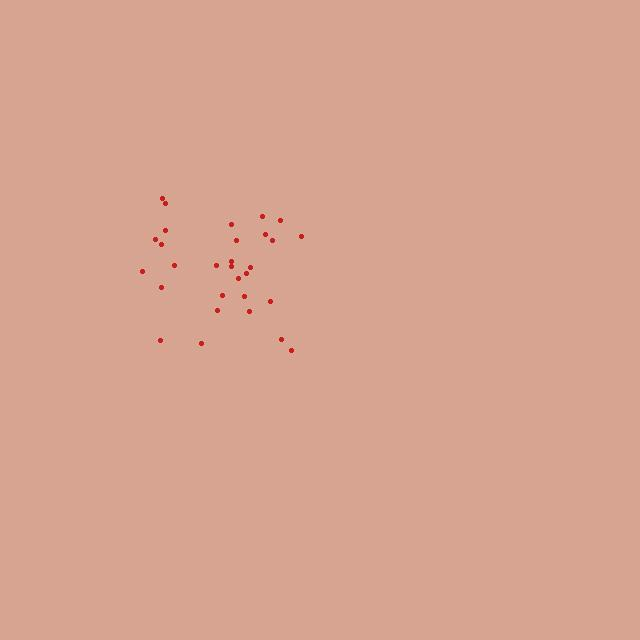abrasion: (139, 197, 310, 377)
